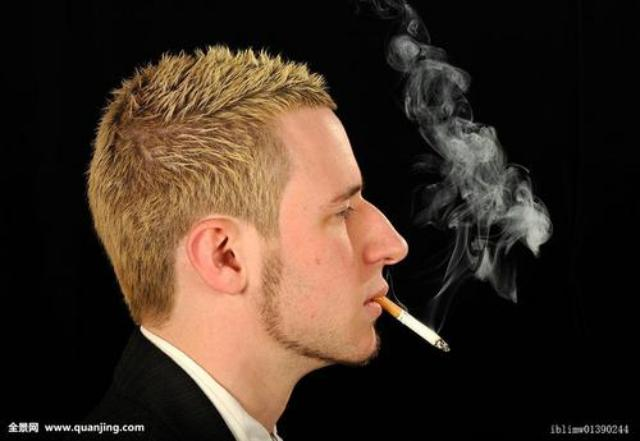Cigarette: (384, 296, 454, 356)
